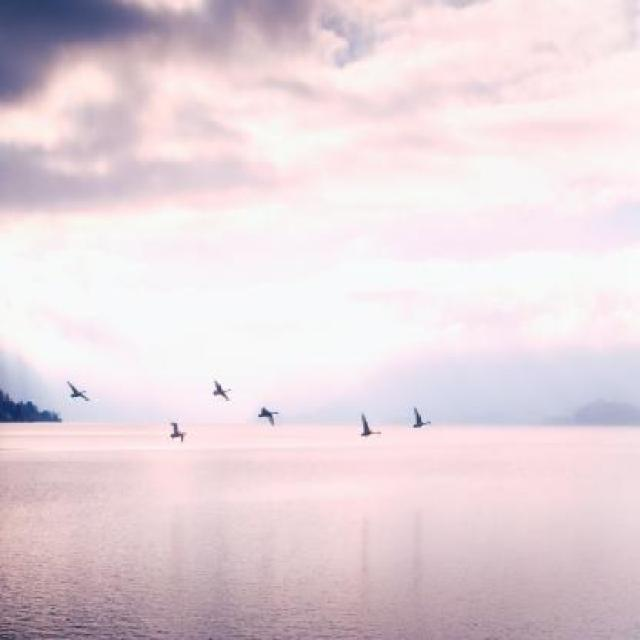bird: (410, 406, 436, 434), (358, 412, 382, 442), (211, 379, 235, 406), (256, 405, 282, 429), (168, 420, 190, 448), (68, 382, 92, 406)
